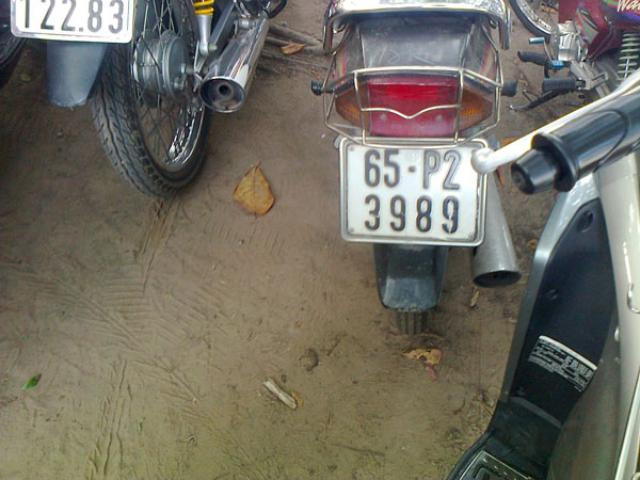plate: (347, 140, 489, 252)
